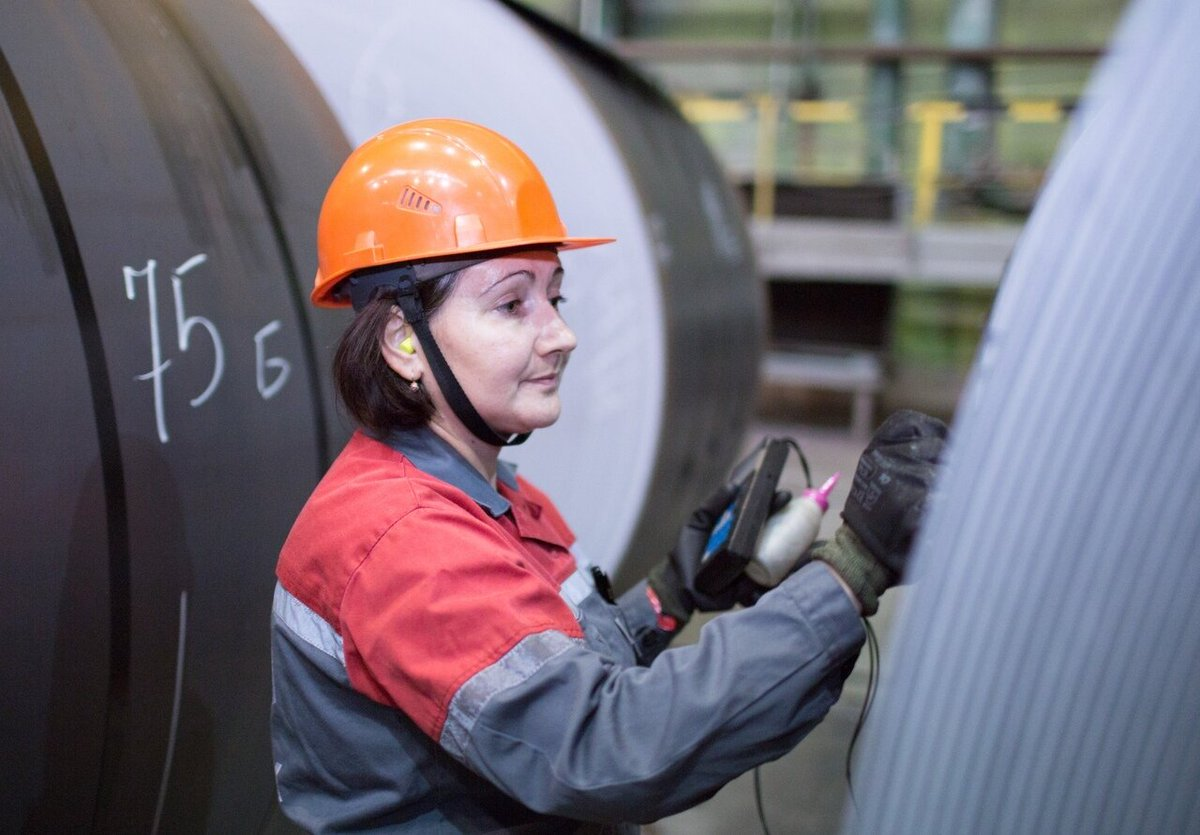person: (268, 119, 905, 835)
